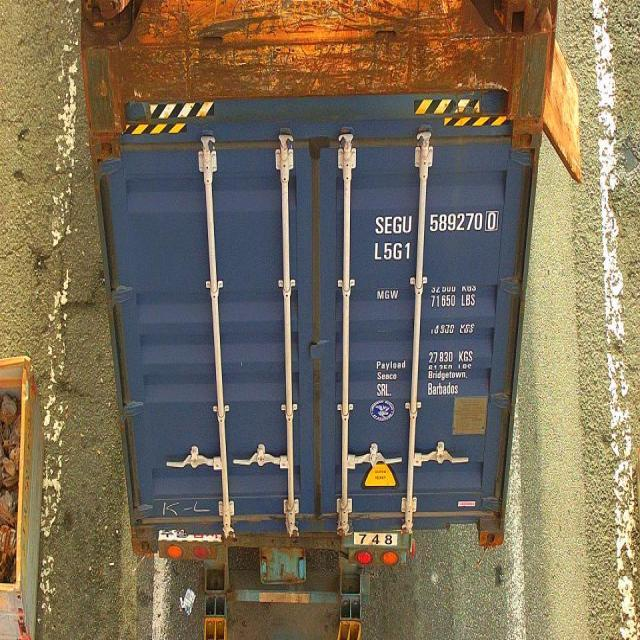ISO: (375, 240, 413, 260)
container_number: (373, 206, 502, 234)
